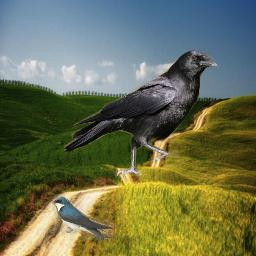Crow: (64, 49, 222, 178)
Swallow: (52, 196, 113, 240)
